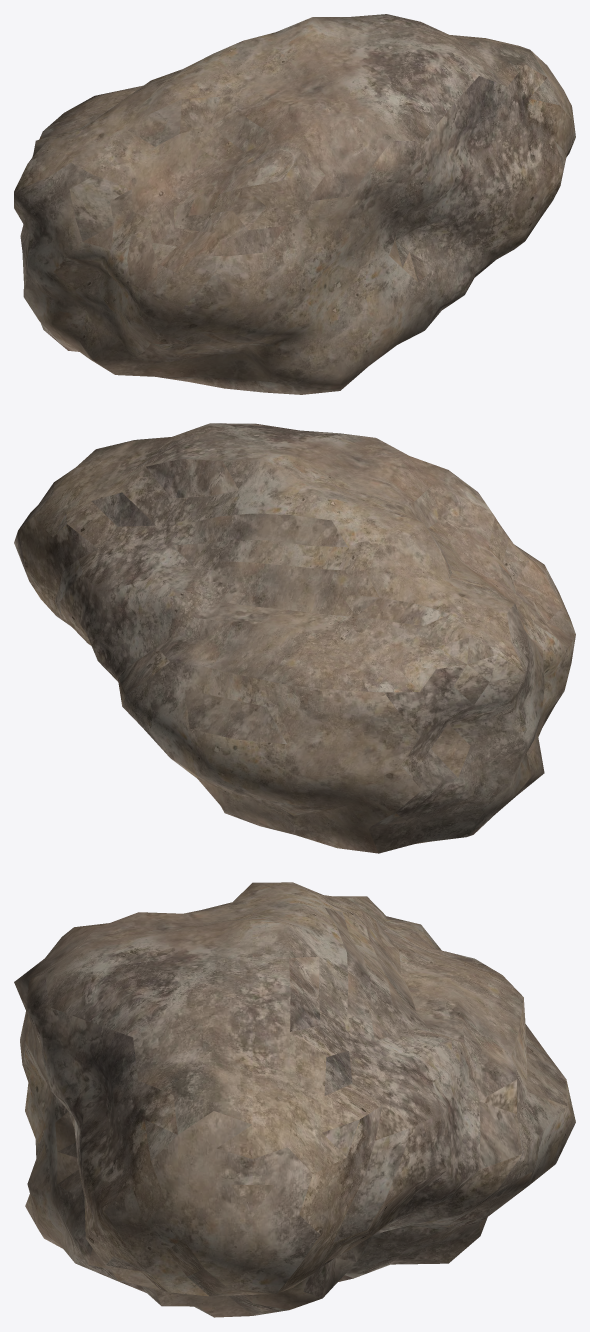
File: rock_boulder_a.glb
The picture shows the model from 3 angles, top to bottom: view 1: azimuth 30°, elevation 25°; view 2: azimuth 150°, elevation 25°; view 3: azimuth 270°, elevation 25°; orthographic projection. The views are drawn at different scales.
Parts seen in each view (by area): view 1: rock_boulder_a; view 2: rock_boulder_a; view 3: rock_boulder_a.
Part boxes in pixels (<box>): rock_boulder_a: <box>14,14,575,394</box>; rock_boulder_a: <box>14,423,575,853</box>; rock_boulder_a: <box>14,882,575,1317</box>.
Size of the model in its own units: 1.5 by 0.8104 by 1.13.
1 material, 1 textured.
